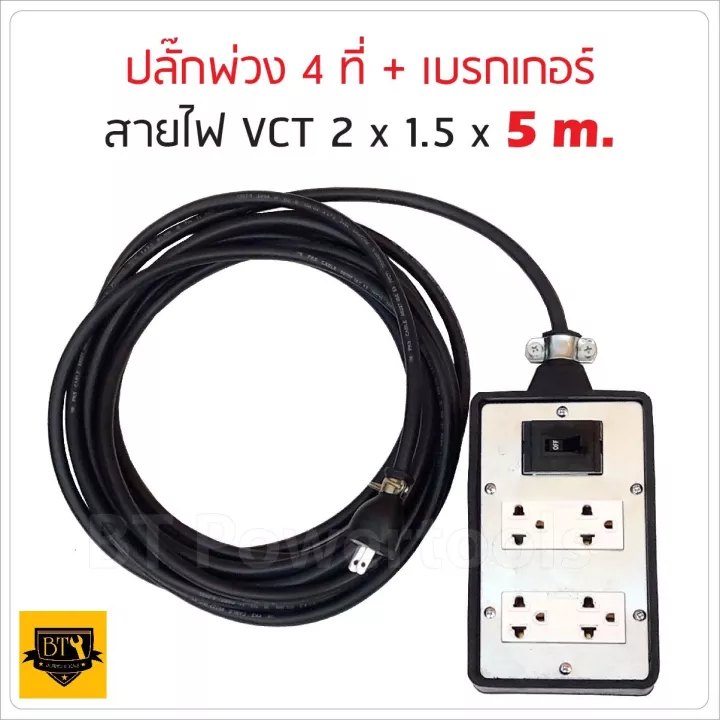Three_eye_plug: (452, 383, 676, 690)
